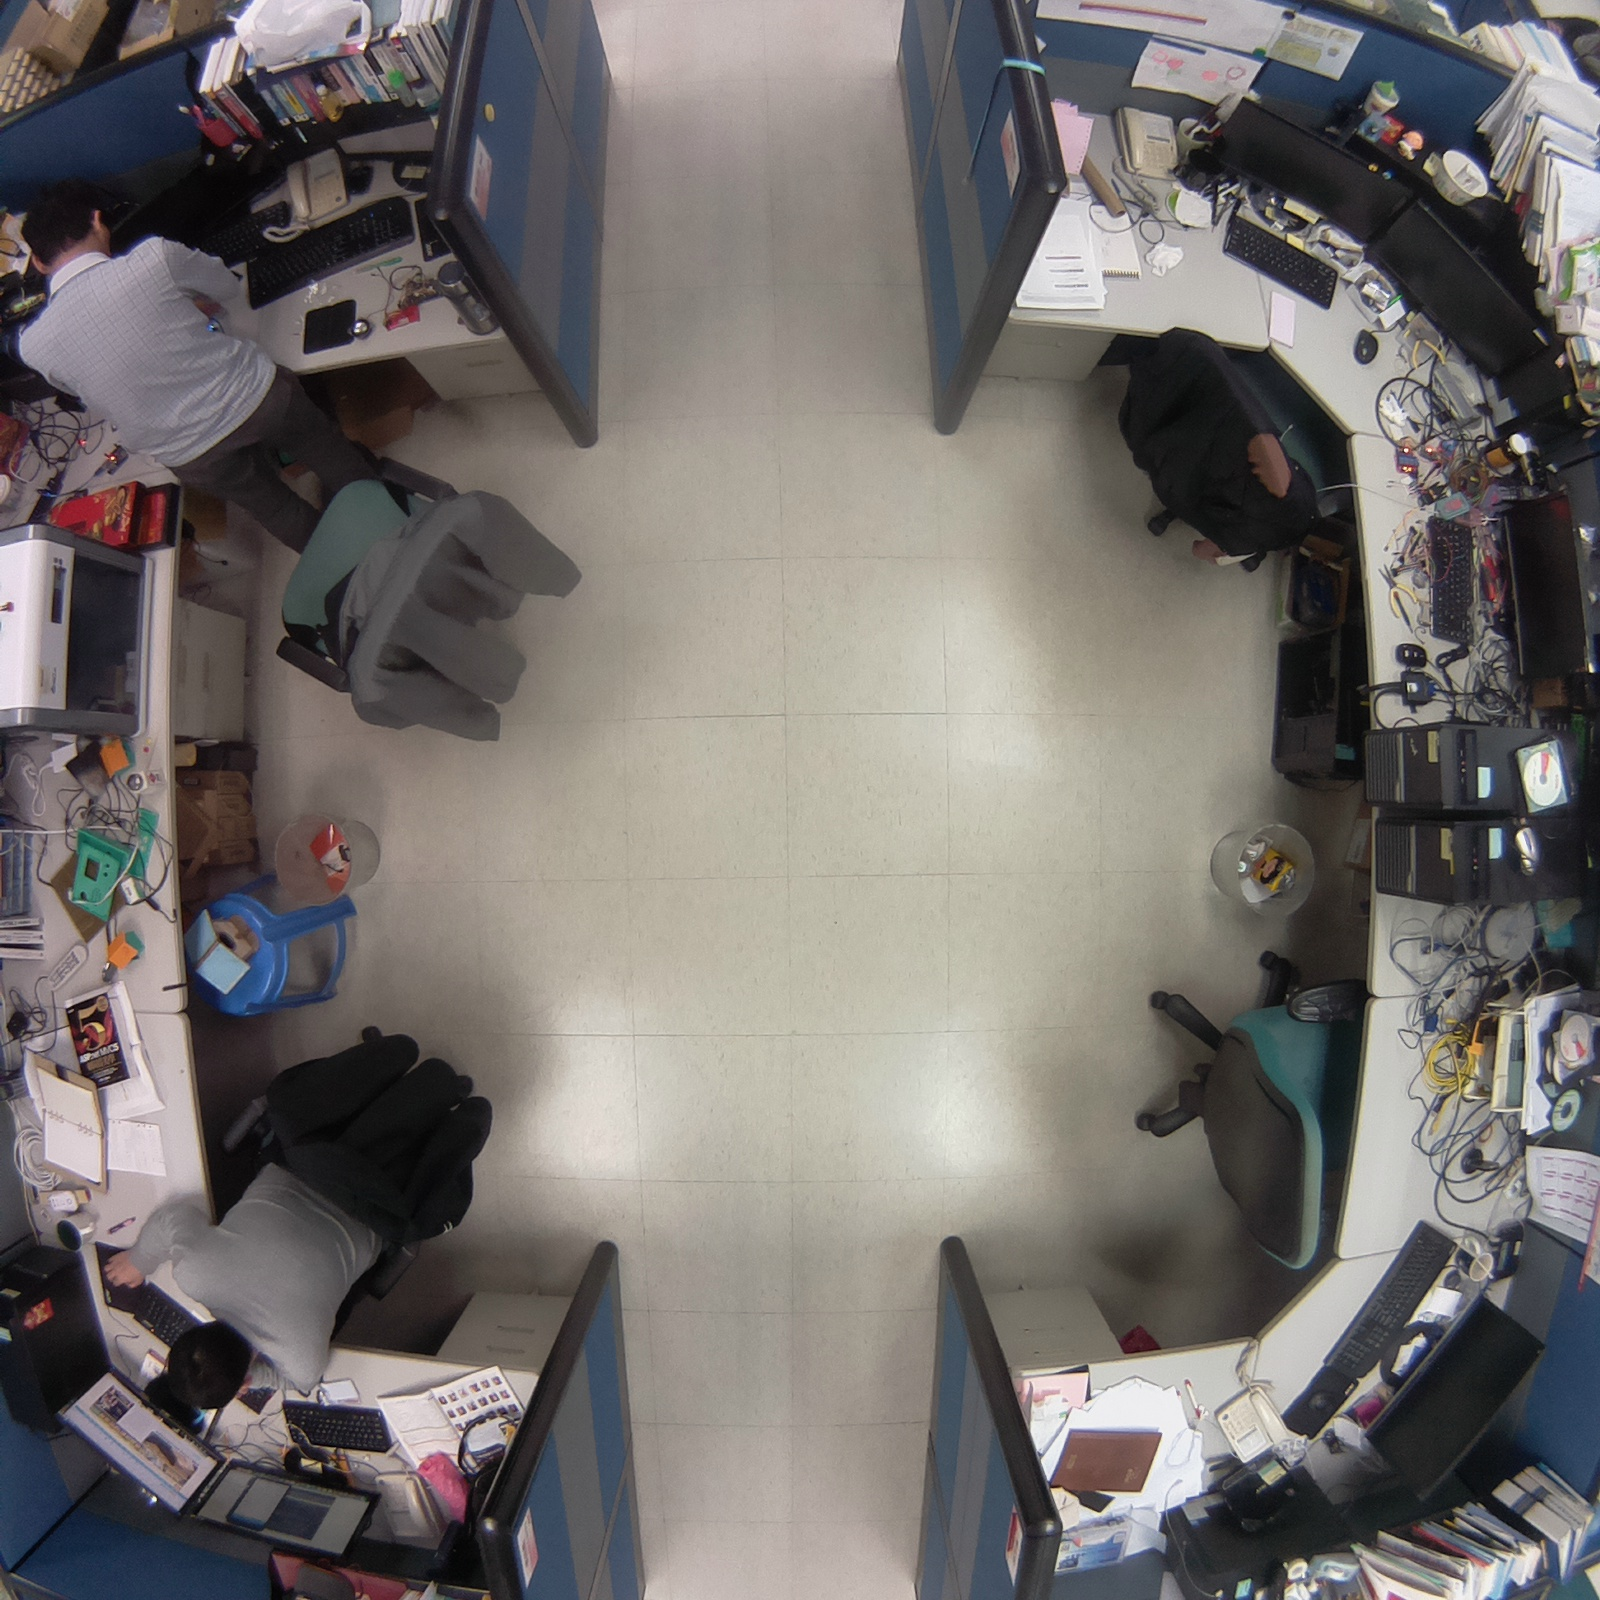chair: (263, 455, 596, 763), (1117, 929, 1378, 1286), (1088, 301, 1370, 591)
head: (157, 1310, 255, 1417), (10, 185, 119, 280)
sitting: (111, 1011, 512, 1424)
standing: (2, 189, 453, 555)
